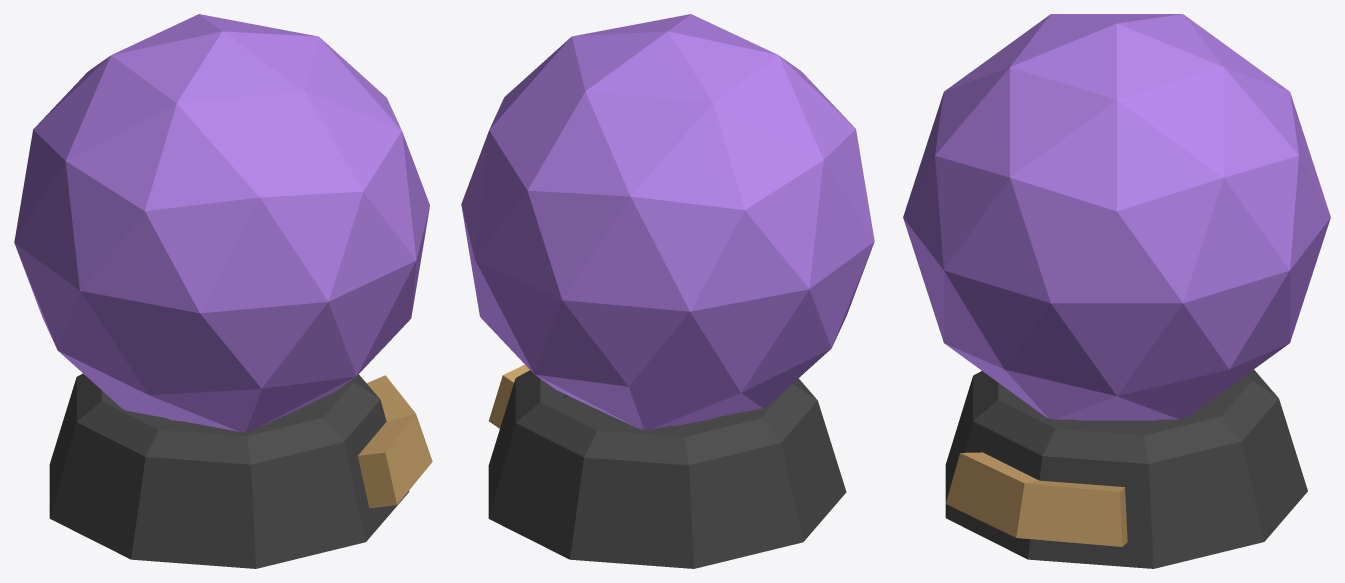
The model's file is purpleglobe.fbx.
The picture shows the model from 3 angles, left to right: view 1: azimuth 30°, elevation 25°; view 2: azimuth 150°, elevation 25°; view 3: azimuth 270°, elevation 25°; orthographic projection.
Visible parts, largest first — view 1: Globe, Globe_Base; view 2: Globe, Globe_Base; view 3: Globe, Globe_Base.
Boxes of the visible parts, bbox=[...] form: Globe: bbox=[14, 14, 429, 432]; Globe_Base: bbox=[49, 373, 432, 568]; Globe: bbox=[461, 14, 874, 429]; Globe_Base: bbox=[488, 364, 846, 568]; Globe: bbox=[903, 14, 1330, 420]; Globe_Base: bbox=[945, 369, 1307, 568].
Bounding box in the file's own units: 12.16 × 15.25 × 12.7.
